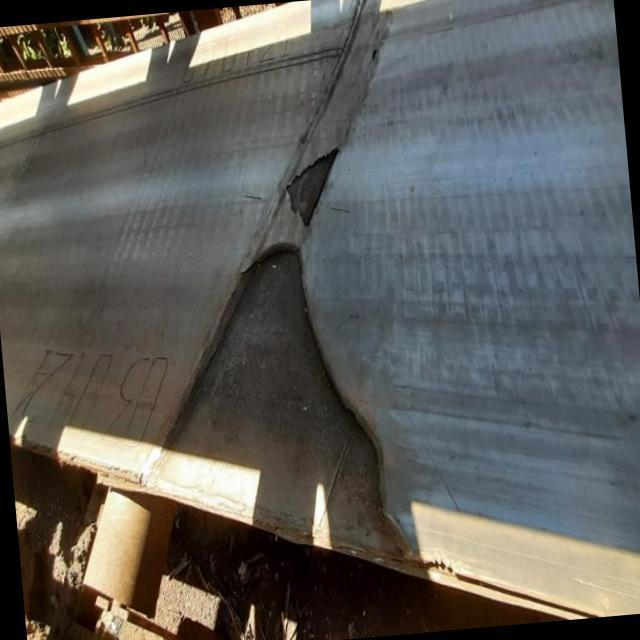Tear: (142, 237, 424, 564), (282, 144, 344, 233)
